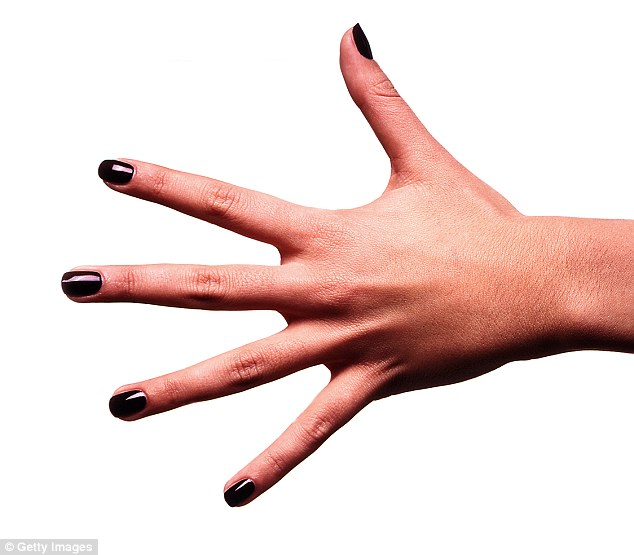finger: (203, 366, 398, 514), (97, 315, 334, 432), (97, 138, 288, 257), (56, 252, 295, 321)
